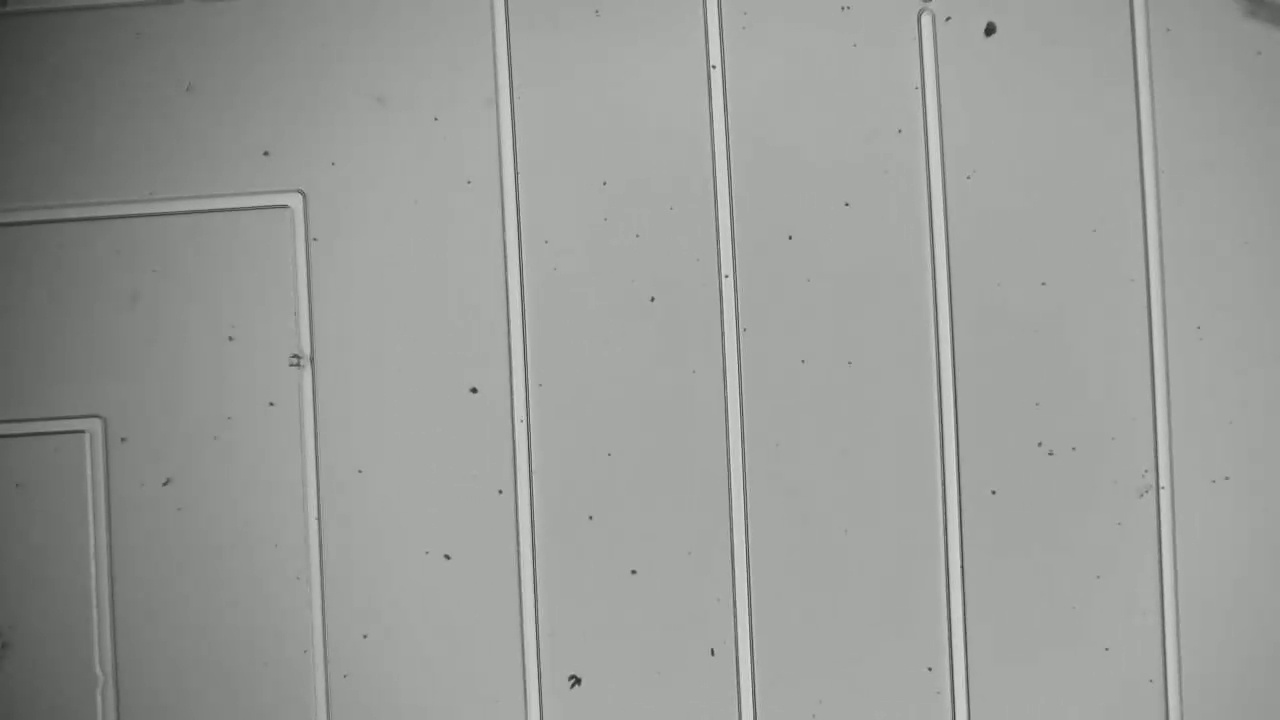edge_bite: (83, 648, 131, 703), (275, 336, 322, 385)
open: (896, 1, 950, 37)
